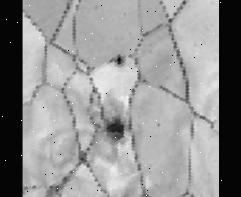good_void: (98, 109, 131, 151), (108, 53, 127, 68), (153, 121, 163, 129)
